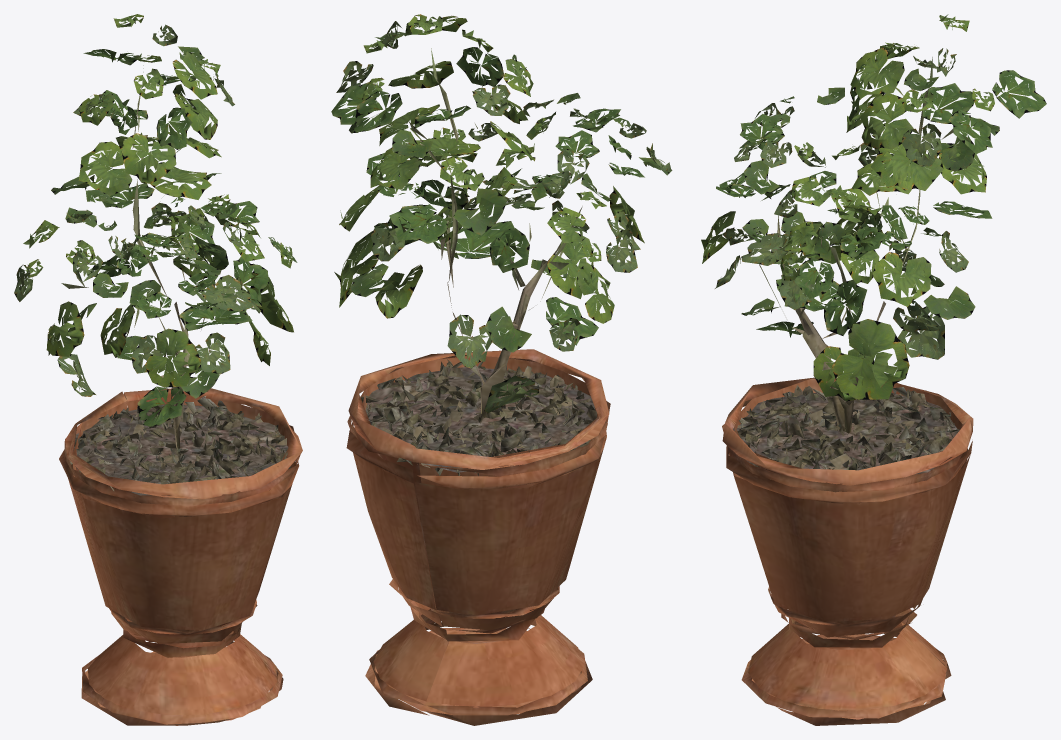
Rendered from ph_potted_plant_01.glb.
The picture shows the model from 3 angles, left to right: view 1: azimuth 30°, elevation 25°; view 2: azimuth 150°, elevation 25°; view 3: azimuth 270°, elevation 25°; orthographic projection. The views are drawn at different scales.
Visible parts, largest first — view 1: potted_plant_01_stem; view 2: potted_plant_01_stem; view 3: potted_plant_01_stem.
Part boxes in pixels (left/top/right/bottom): potted_plant_01_stem: left=14, top=14, right=302, bottom=725; potted_plant_01_stem: left=331, top=14, right=672, bottom=725; potted_plant_01_stem: left=701, top=14, right=1046, bottom=725.
Bounding box in the file's own units: 0.5837 × 1.34 × 0.6322.
Materials: 2 (2 with a texture image).
